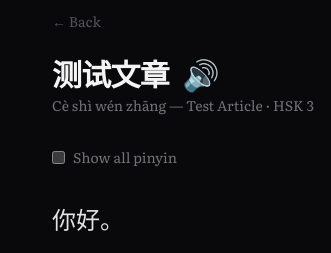
Test: Reader › switches tooltip when clicking a different word
The width and height of the screenshot is (331, 253).
Click the text "你". click: {"x": 64, "y": 218}
box: [52,201,76,236]
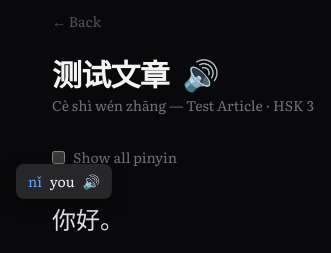
Check: the text "you" is shown, box [50,171,75,191]
Click the text "好". click: {"x": 88, "y": 218}
box: [76,201,100,236]
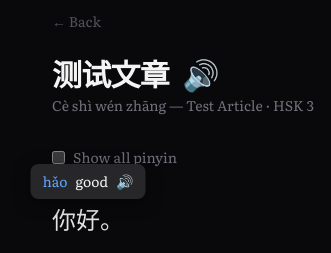
Check: the text "good" is shown, box [76,171,108,191]
Check: the text "you" is gone
